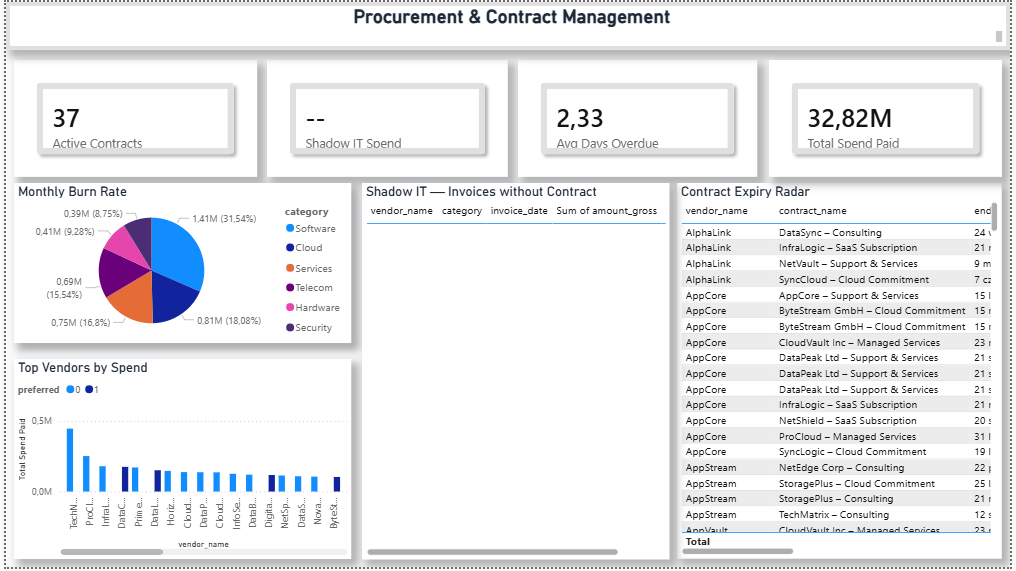

What the dashboard file says about the page in this screenshot:
{"tool":"powerbi","page":{"name":"Procurement & Contracts","canvas":[1280,720],"ordinal":4},"visuals":[{"type":"cardVisual","fields":{"Data":["_Measures.Active Contracts"]},"box":[10.2,73.9,309.8,149.2],"z":0},{"type":"cardVisual","fields":{"Data":["_Measures.Shadow IT Spend"]},"box":[332.7,73.9,307.3,149.2],"z":1000},{"type":"cardVisual","fields":{"Data":["_Measures.Avg Days Overdue"]},"box":[652.7,73.9,304.7,149.2],"z":2000},{"type":"clusteredColumnChart","title":"Top Vendors by Spend","fields":{"Category":["vendors.vendor_name"],"Y":["_Measures.Total Spend Paid"],"Series":["vendors.preferred"]},"box":[10.2,455.1,429.6,255],"z":3000},{"type":"pieChart","title":"Monthly Burn Rate","fields":{"Y":["_Measures.Total Spend Paid"],"Category":["vendors.category"]},"box":[10.2,230.8,429.6,204],"z":4000},{"type":"tableEx","title":"Contract Expiry Radar","fields":{"Values":["vendors.vendor_name","contracts.contract_name","contracts.end_date","Sum(contracts.notice_period_days)","Sum(contracts.annual_value)","Sum(contracts.auto_renewal)","cost_centers.budget_owner"]},"box":[855.5,230.8,414.3,479.4],"z":5000},{"type":"textbox","title":"Procurement & Contract Management","box":[0,0,1280,60.8],"z":6000},{"type":"cardVisual","fields":{"Data":["_Measures.Total Spend Paid"]},"box":[972.3,74,297.1,149.1],"z":7000},{"type":"tableEx","title":"Shadow IT — Invoices without Contract","fields":{"Values":["vendors.vendor_name","vendors.category","invoices_main.invoice_date","Sum(invoices_main.amount_gross)","invoices_main.description"]},"box":[453.3,231,392.1,479.5],"z":8000}]}

Visuals, with their boxes in screenshot pixels (x1, y1, x2, y2), scaled from the page's 1280x720 canvas onto the 1016x571 screenshot:
cardVisual - _Measures.Active Contracts: <bbox>8, 59, 254, 177</bbox>
cardVisual - _Measures.Shadow IT Spend: <bbox>264, 59, 508, 177</bbox>
cardVisual - _Measures.Avg Days Overdue: <bbox>518, 59, 760, 177</bbox>
"Top Vendors by Spend" clusteredColumnChart: <bbox>8, 361, 349, 563</bbox>
"Monthly Burn Rate" pieChart: <bbox>8, 183, 349, 345</bbox>
"Contract Expiry Radar" tableEx: <bbox>679, 183, 1008, 563</bbox>
"Procurement & Contract Management" textbox: <bbox>0, 0, 1015, 48</bbox>
cardVisual - _Measures.Total Spend Paid: <bbox>772, 59, 1008, 177</bbox>
"Shadow IT — Invoices without Contract" tableEx: <bbox>360, 183, 671, 563</bbox>
